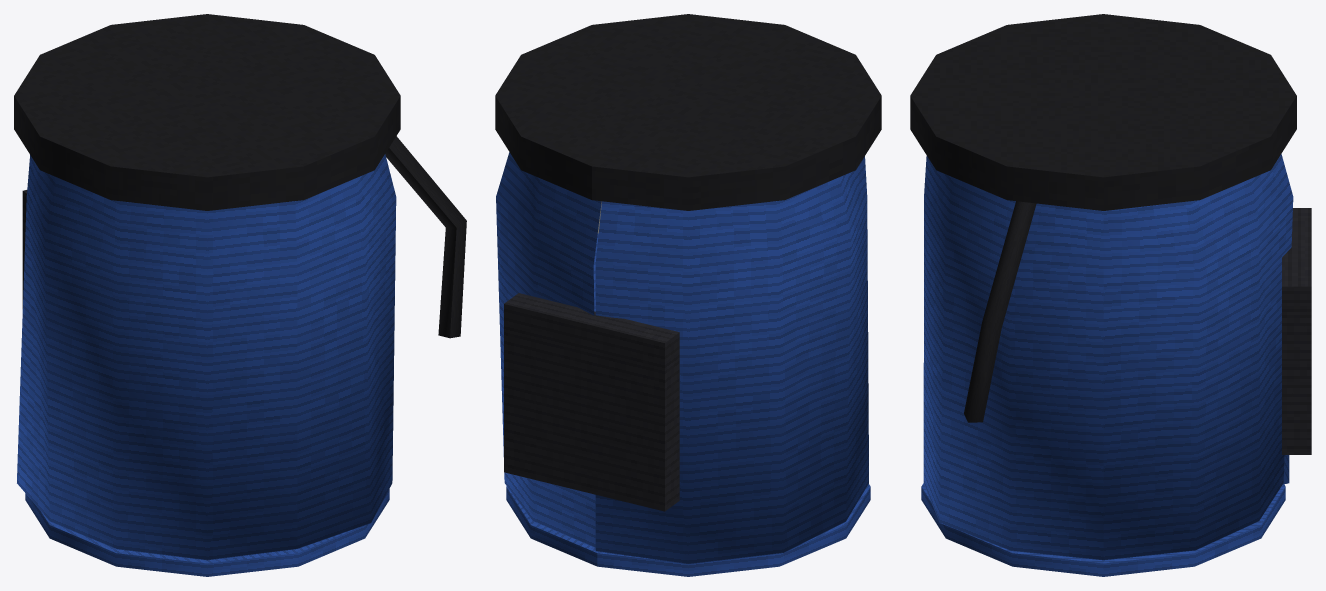
File: item_chalk.glb
The picture shows the model from 3 angles, left to right: view 1: azimuth 30°, elevation 25°; view 2: azimuth 150°, elevation 25°; view 3: azimuth 270°, elevation 25°; orthographic projection.
Visible parts, largest first — view 1: item_chalk; view 2: item_chalk; view 3: item_chalk.
Boxes of the visible parts, <box> form: item_chalk: <box>14,14,466,576</box>; item_chalk: <box>495,14,881,576</box>; item_chalk: <box>910,14,1311,576</box>.
Bounding box in the file's own units: 0.1145 × 0.12 × 0.108.
4 materials, 4 textured.
